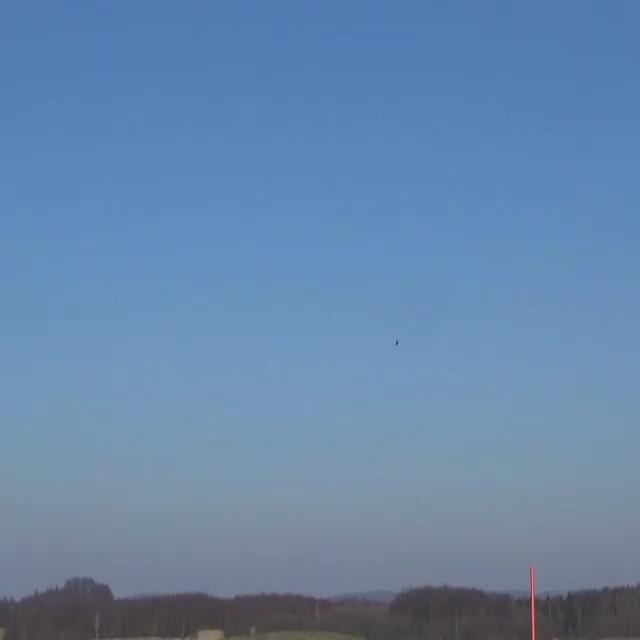bird: (394, 336, 401, 352)
